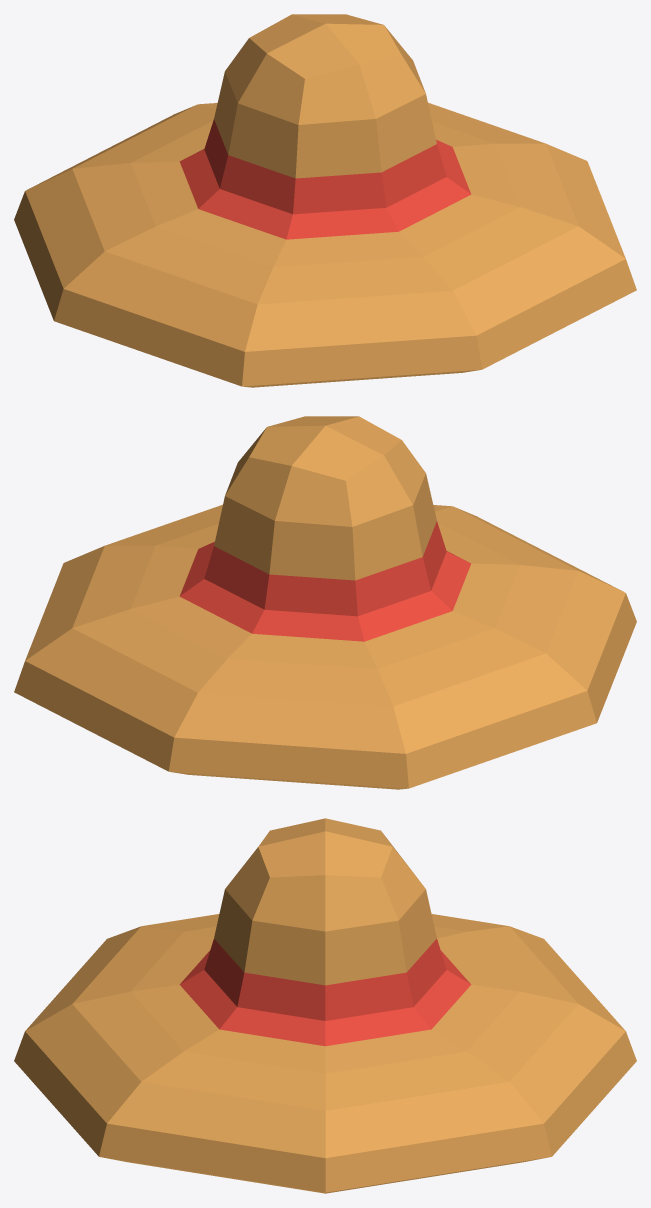
The model's file is chapeu_4.fbx.
The picture shows the model from 3 angles, top to bottom: view 1: azimuth 30°, elevation 25°; view 2: azimuth 150°, elevation 25°; view 3: azimuth 270°, elevation 25°; orthographic projection.
Visible parts, largest first — view 1: chapeu 4; view 2: chapeu 4; view 3: chapeu 4.
Boxes of the visible parts, x1,y1,x2,y2 form: chapeu 4: (14, 14, 636, 387); chapeu 4: (14, 416, 636, 789); chapeu 4: (14, 818, 636, 1193).
Bounding box in the file's own units: 516 × 226 × 516.
